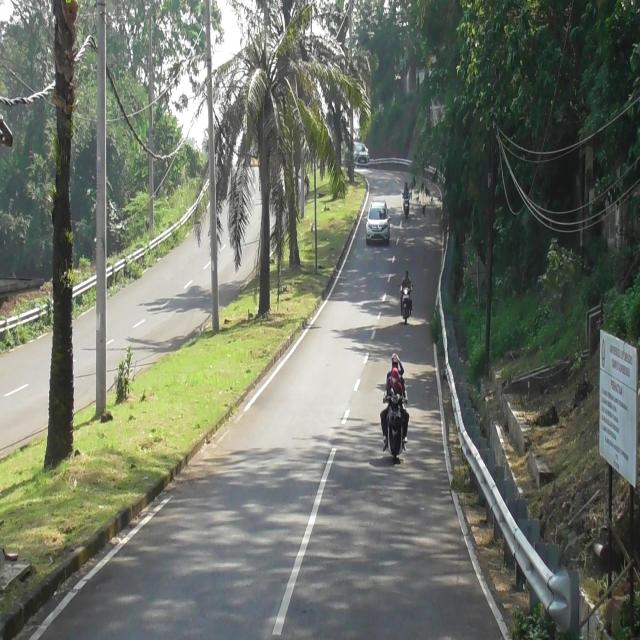motorcycle: (386, 393, 406, 464), (400, 286, 412, 325), (403, 194, 410, 218)
person: (384, 361, 408, 403), (386, 370, 404, 402), (387, 354, 405, 376), (400, 270, 413, 292), (402, 182, 411, 200)
rider_region: (379, 352, 411, 467), (400, 268, 413, 324), (401, 181, 411, 221)
